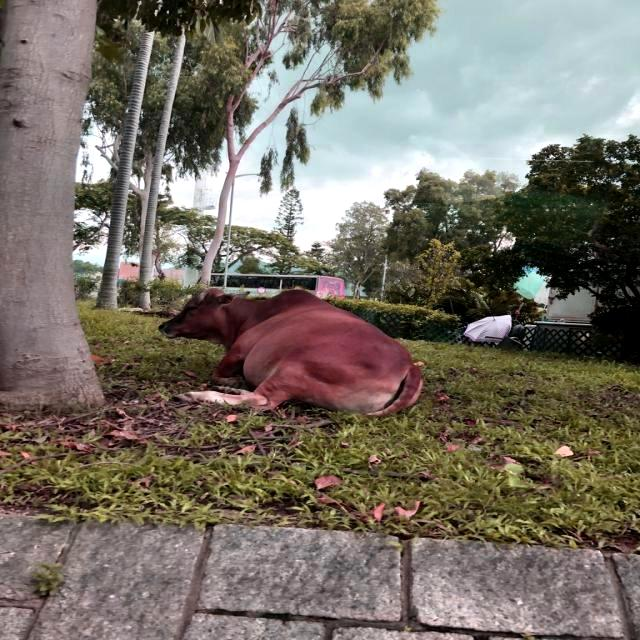COW: (160, 289, 422, 414)
